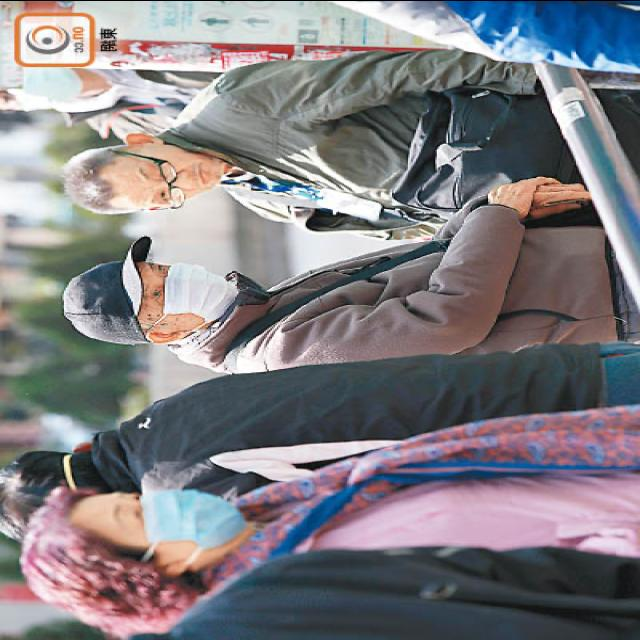mask: (108, 488, 250, 562), (134, 258, 233, 328), (0, 62, 86, 111)
no_mask: (132, 141, 222, 207)
